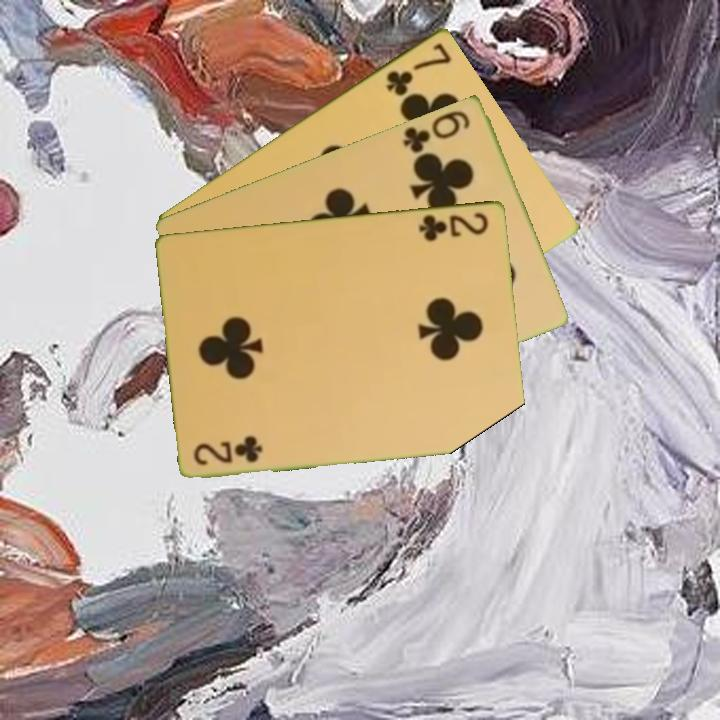2c: (415, 208, 491, 244), (190, 434, 266, 467)
6c: (399, 106, 474, 156)
7c: (382, 39, 455, 98)
